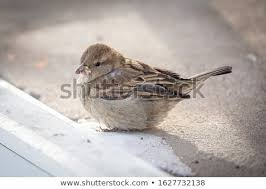home_sparrow: (67, 46, 242, 135)
